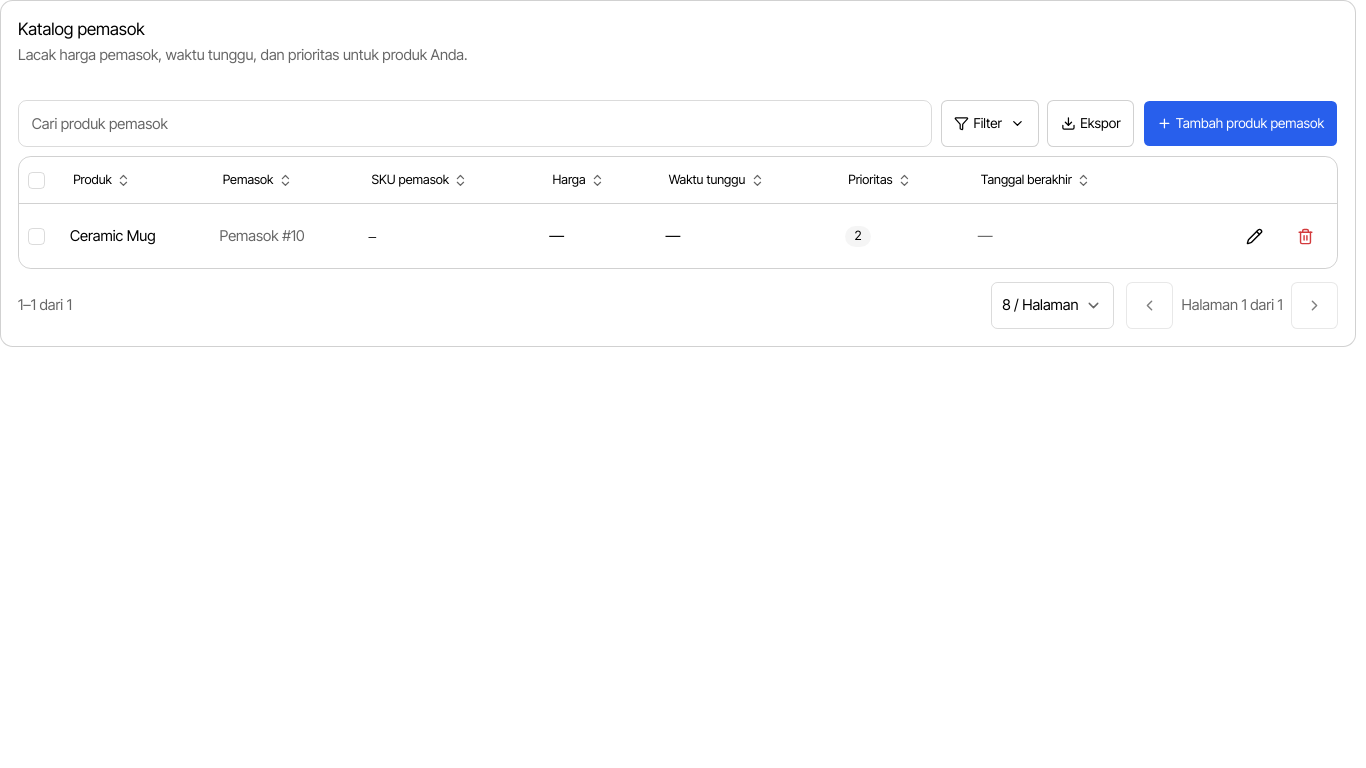
Test case: SupplierCatalogSection branches4 › edits an item with every optional field missing
Check: the text "Ceramic Mug" is shown, box [70,227,156,245]
Click the button named "Ubah produk pemasok": (1254, 236) [1231,213,1278,260]
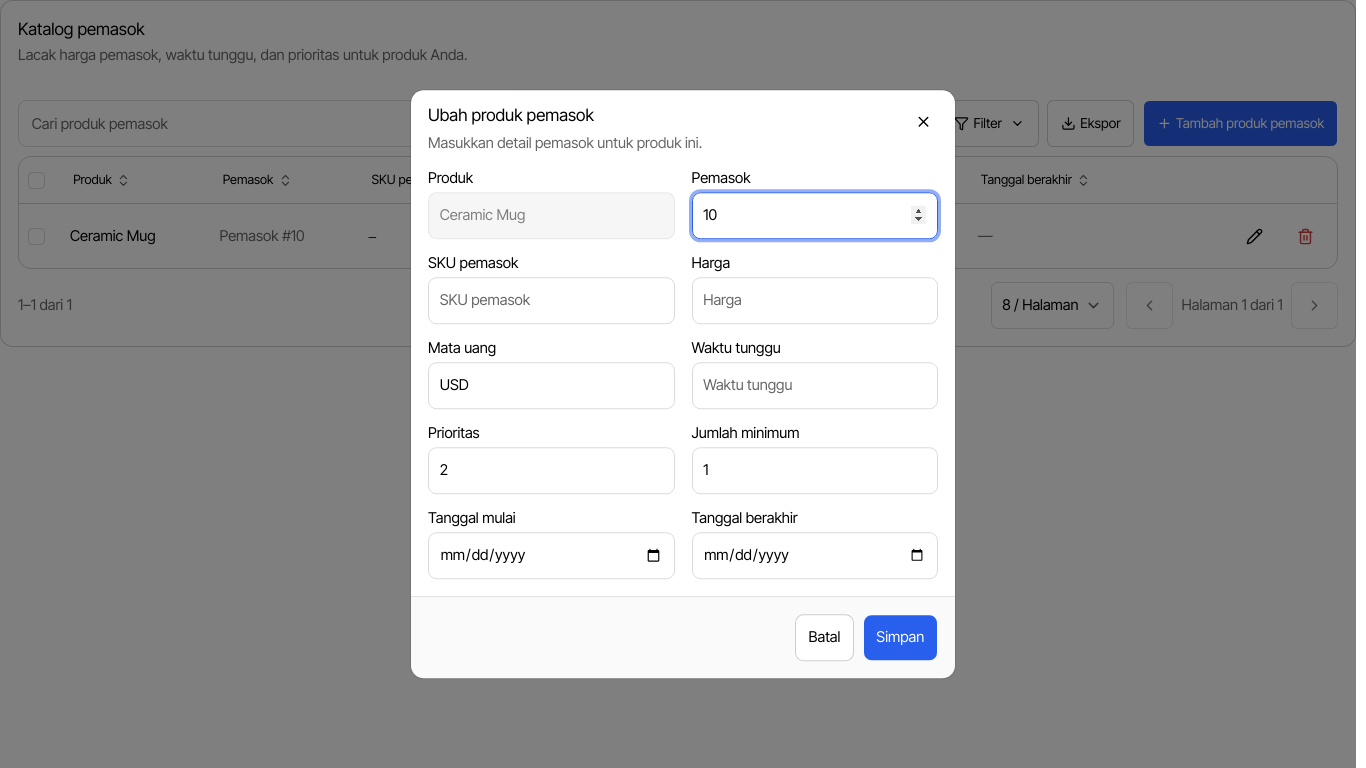
Check: the field labelled "SKU pemasok" is empty, box [428,277,674,324]
Check: the field labelled "Mata uang" holds "USD", box [428,362,674,409]
